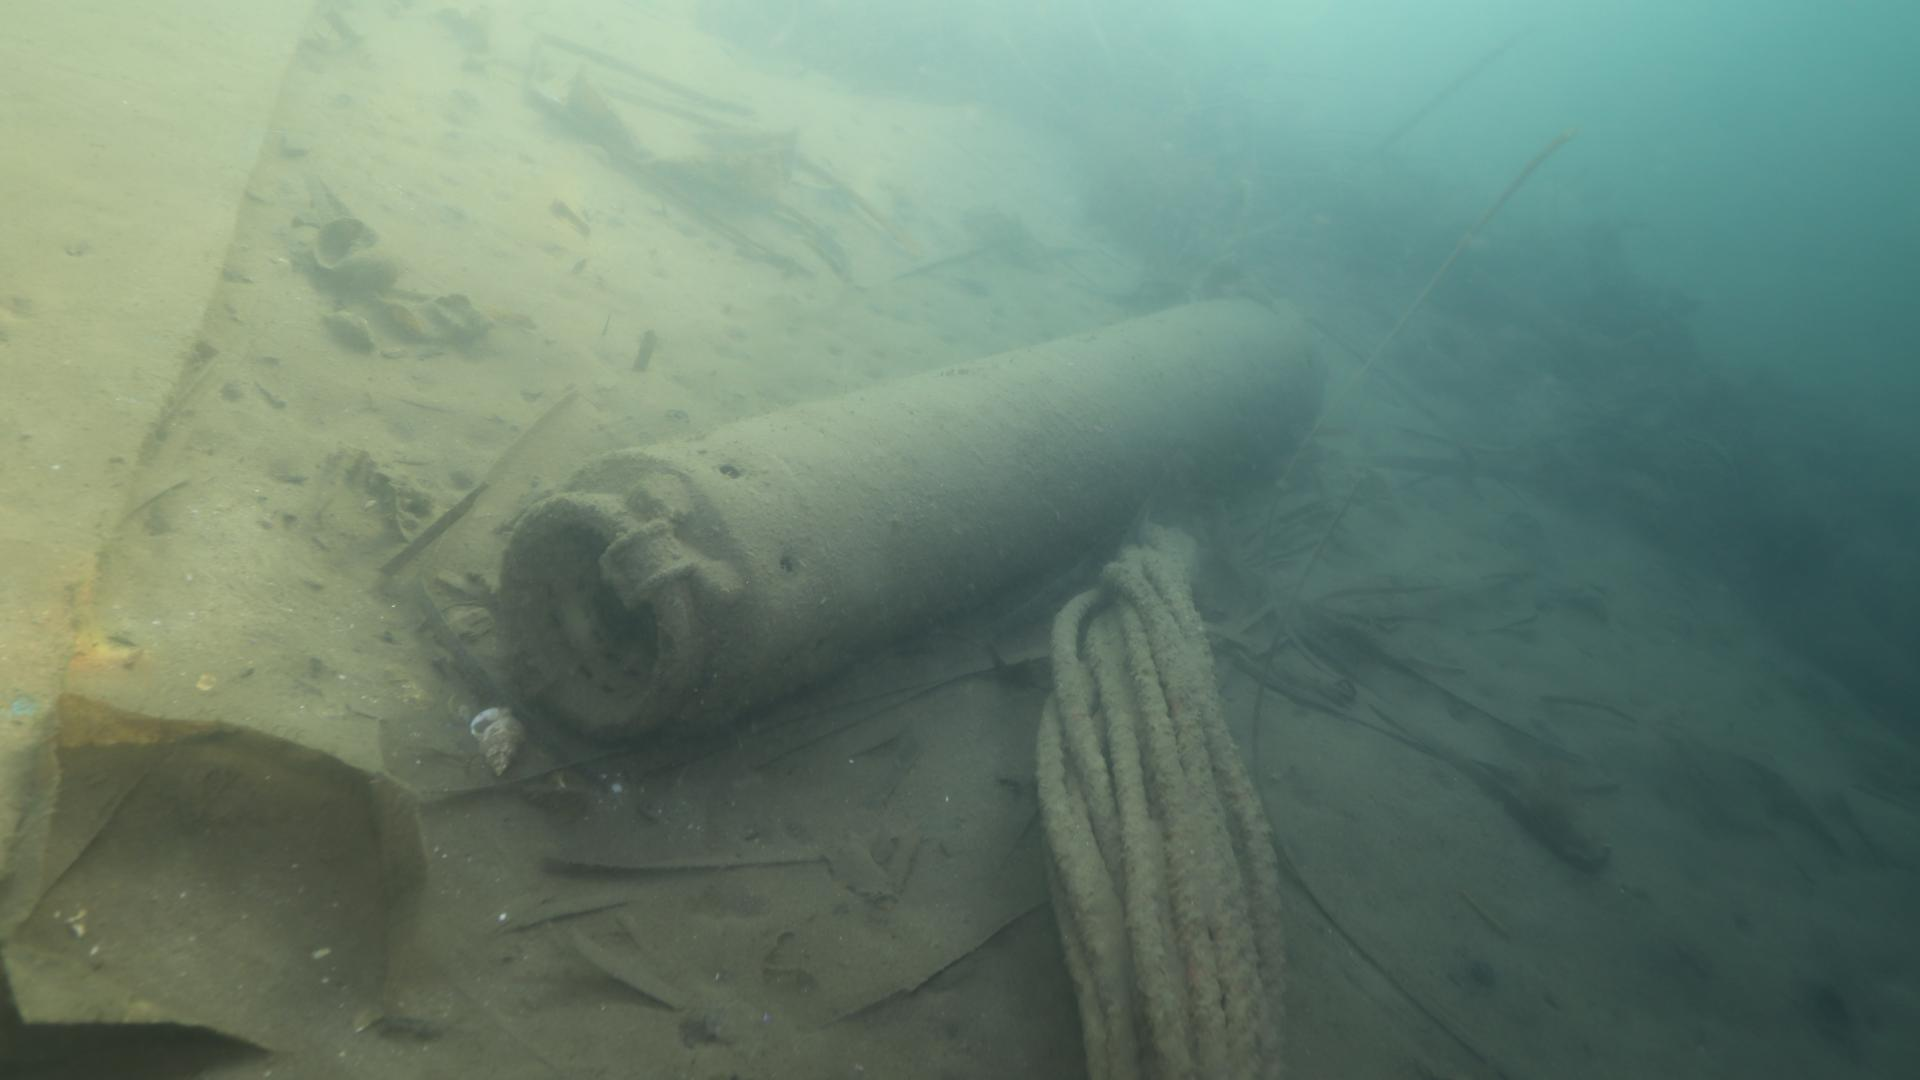bundle of ropes: (1026, 495, 1300, 1080)
eel fish trap: (495, 284, 1335, 764)
